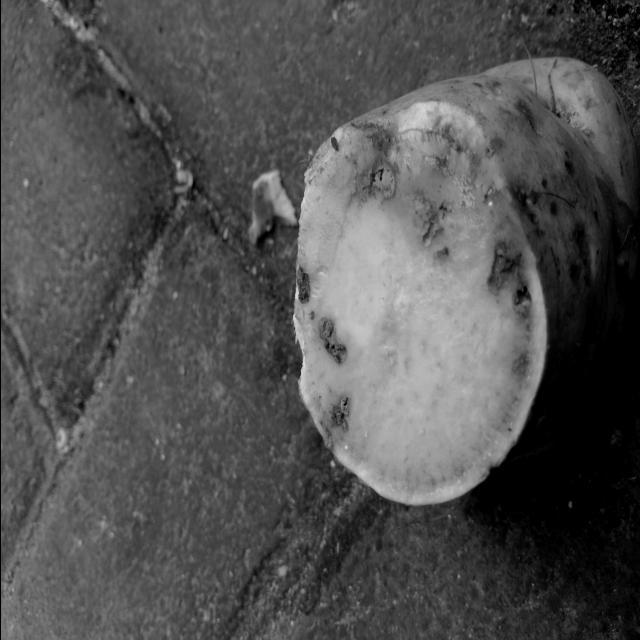Sick Sweet Potato_Tuber Rot: (294, 102, 542, 503)
